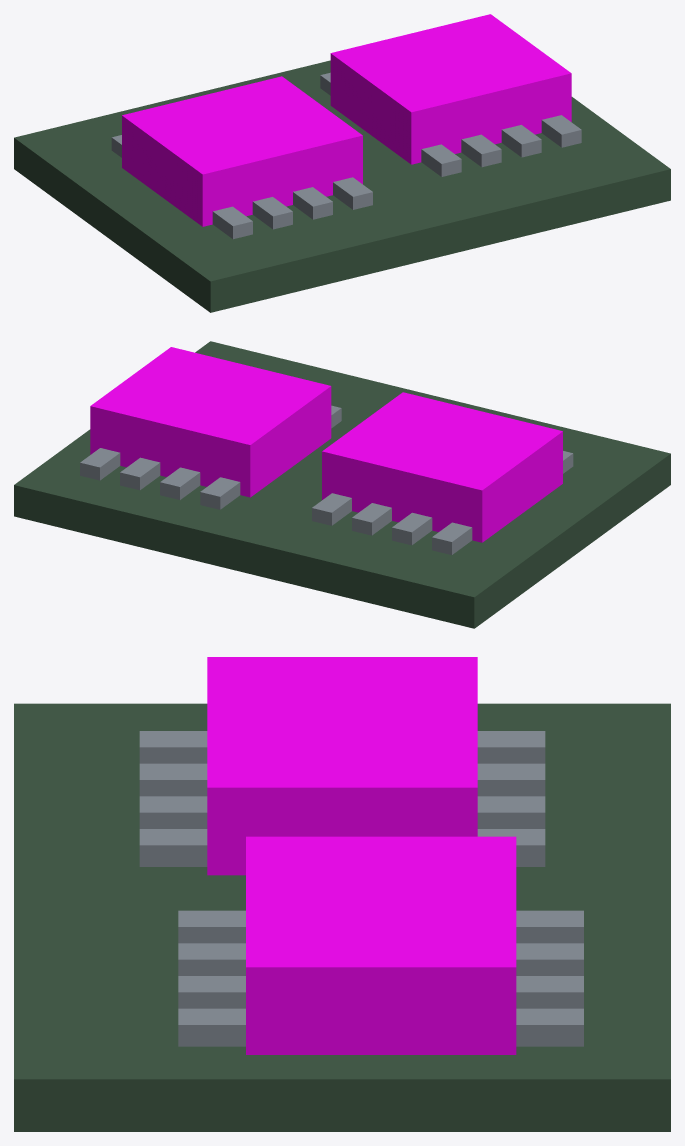
File: objet_puce.glb
3 views of the same model, one above another, from view 1: azimuth 30°, elevation 25°; view 2: azimuth 150°, elevation 25°; view 3: azimuth 270°, elevation 25° (orthographic). The views are drawn at different scales.
Visible parts, largest first — view 1: puce_vert_fonce.002, puce_teinte.002, puce_acier.002; view 2: puce_vert_fonce.002, puce_teinte.002, puce_acier.002; view 3: puce_vert_fonce.002, puce_teinte.002, puce_acier.002.
Boxes of the visible parts, bbox=[...] form: puce_vert_fonce.002: bbox=[14, 60, 670, 312]; puce_teinte.002: bbox=[122, 14, 571, 226]; puce_acier.002: bbox=[111, 72, 581, 239]; puce_vert_fonce.002: bbox=[14, 341, 670, 628]; puce_teinte.002: bbox=[90, 347, 562, 542]; puce_acier.002: bbox=[80, 405, 573, 554]; puce_vert_fonce.002: bbox=[14, 703, 670, 1131]; puce_teinte.002: bbox=[207, 657, 516, 1054]; puce_acier.002: bbox=[139, 731, 583, 1046].
Size of the model in its own units: 0.23 by 0.04 by 0.17.
